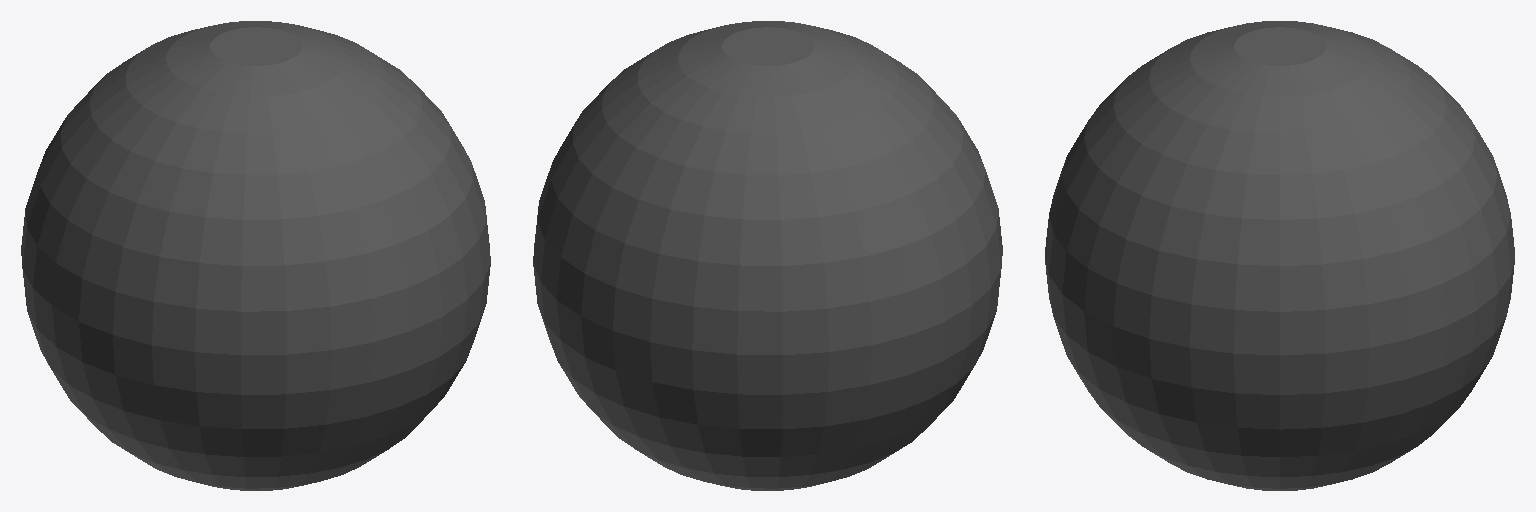
The model's file is globe.obj.
3 renders of one model, left to right at view 1: azimuth 30°, elevation 25°; view 2: azimuth 150°, elevation 25°; view 3: azimuth 270°, elevation 25°, orthographic.
Parts seen in each view (by area): view 1: Globe; view 2: Globe; view 3: Globe.
Boxes of the visible parts, x1=… form: Globe: x1=21, y1=21, x2=490, y2=490; Globe: x1=533, y1=21, x2=1002, y2=490; Globe: x1=1045, y1=21, x2=1514, y2=490.
Bounding box in the file's own units: 2 × 1.96 × 2.